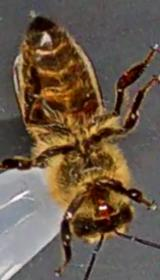varroa_mite: (75, 86, 102, 120)
